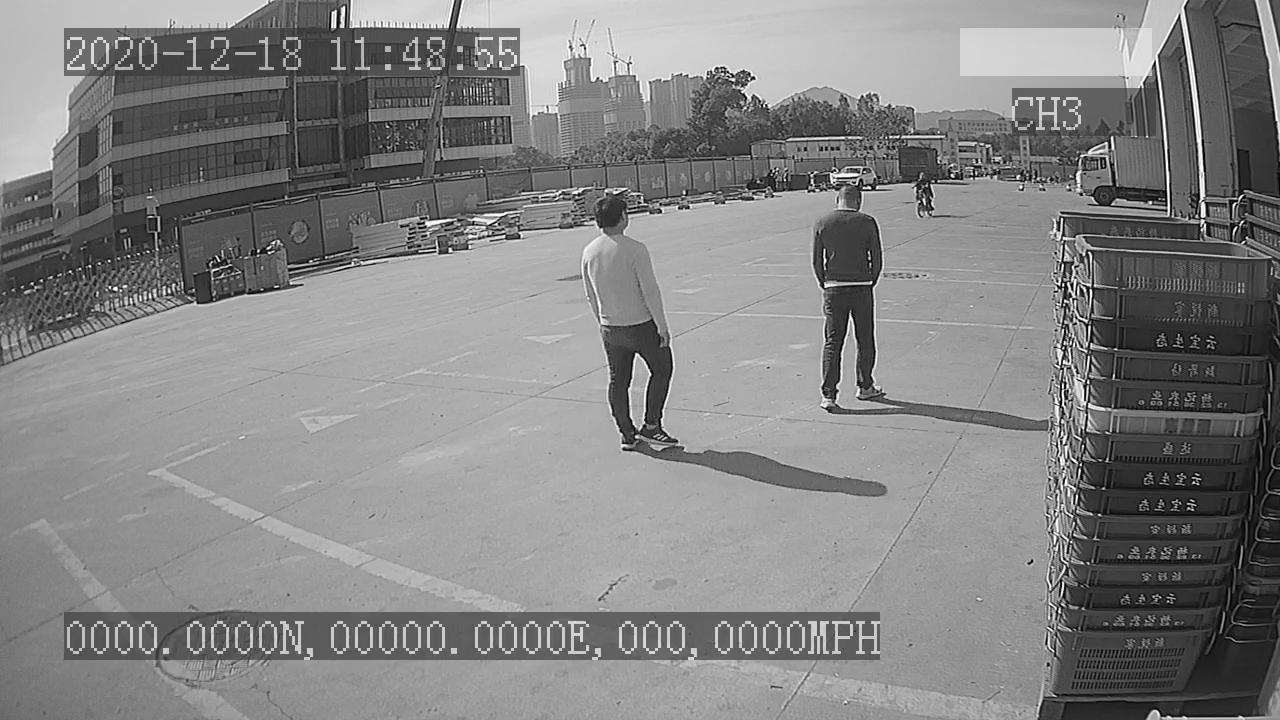person: (577, 190, 686, 454), (811, 179, 888, 415)
